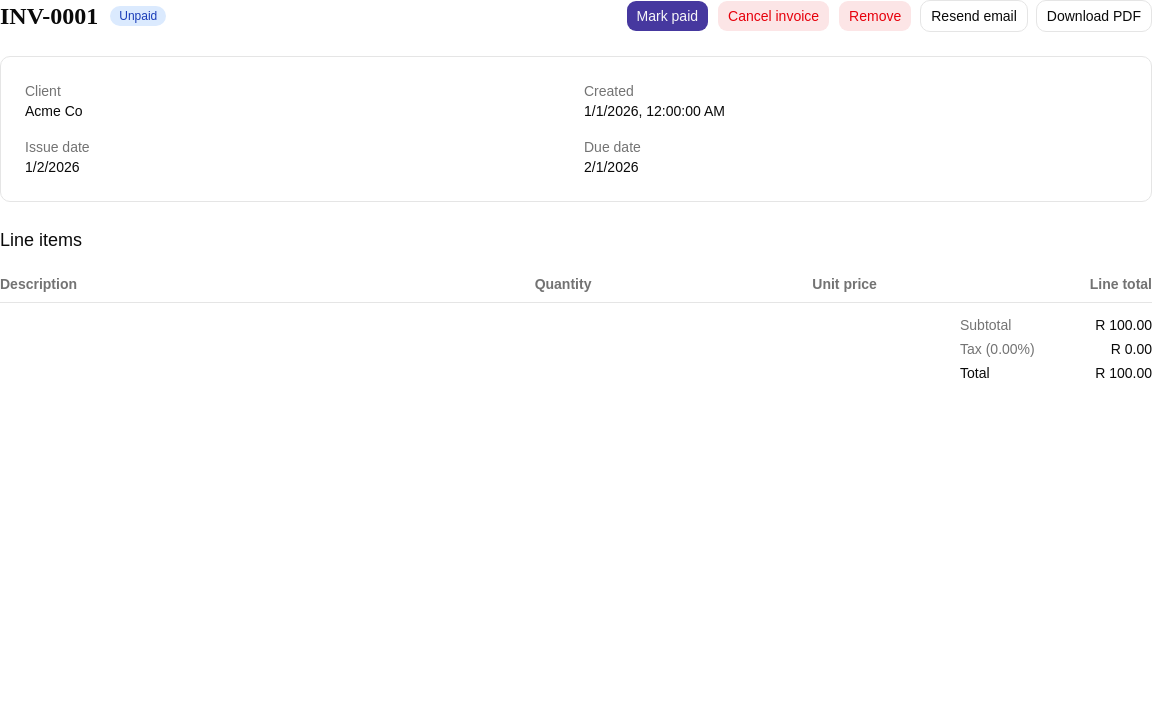
InvoiceDetailPage — Resend email delivery outcome › falls back to the destructive error Alert, not the info Alert, on an outright request failure
Click the button "Resend email": (974, 16) [920,0,1028,32]
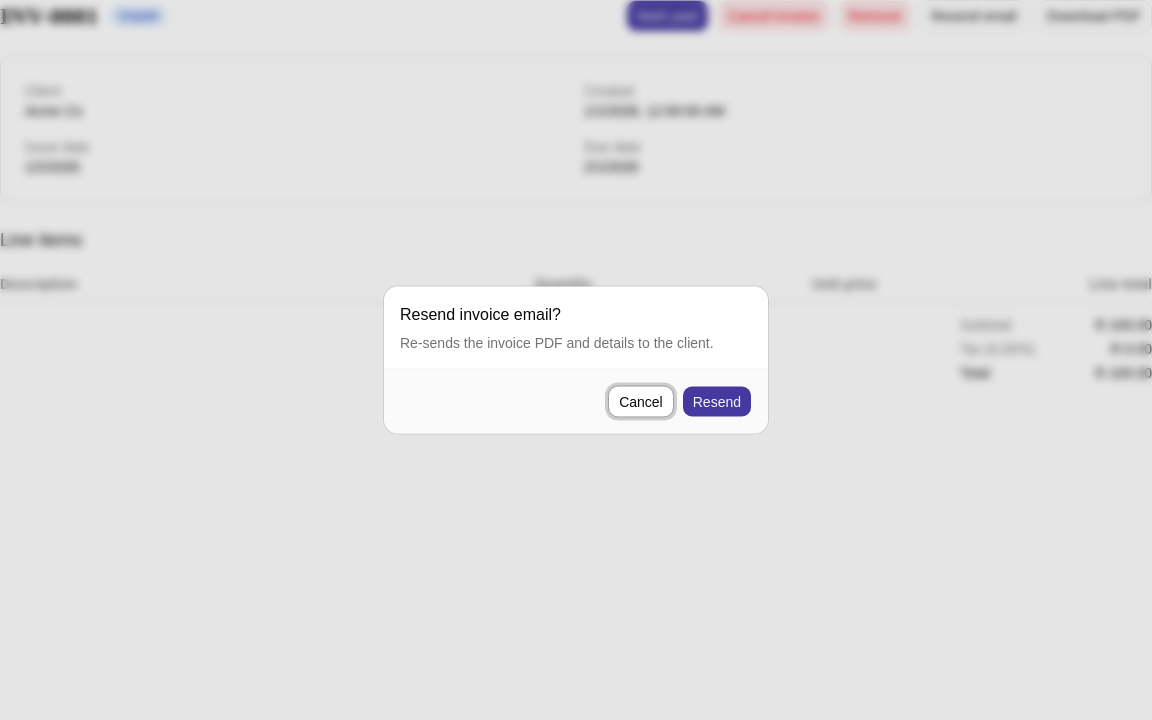
Click the button "Resend": (717, 402) [682,386,752,418]
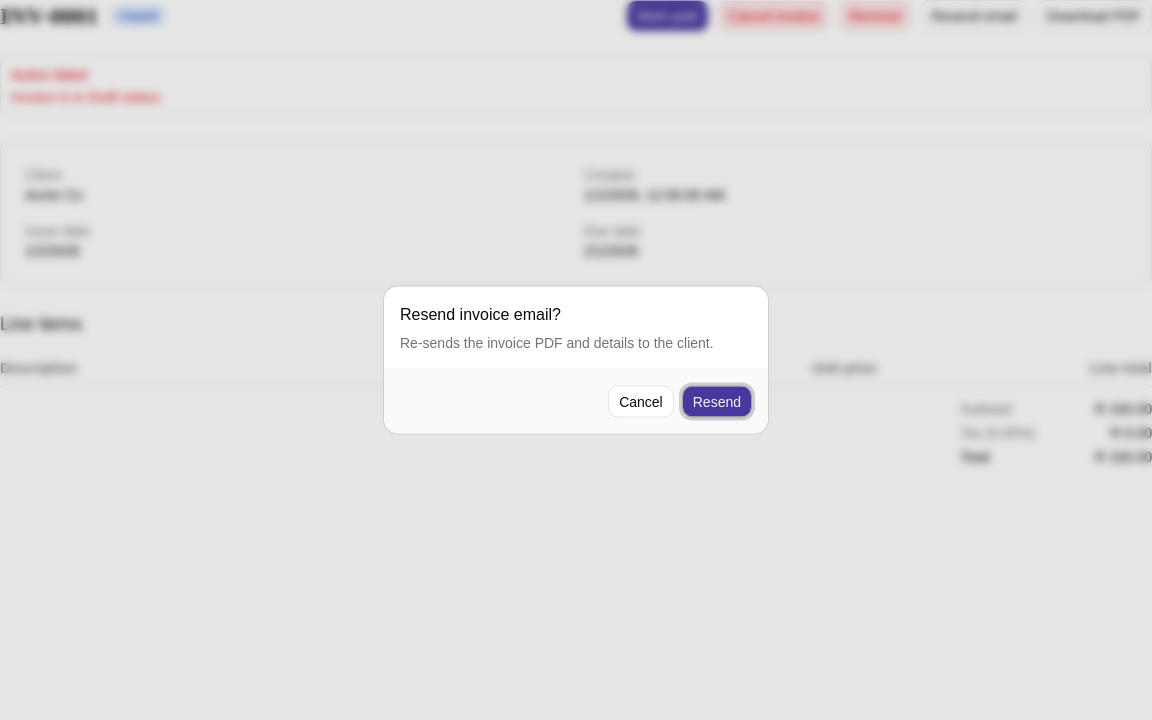
Expected: the text "Action failed" is shown, [11,67,87,83]
Expected: the text "Invoice is in Draft status." is shown, [11,89,164,105]
